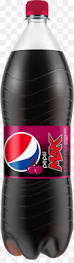bottle: (1, 1, 74, 255)
pepsi: (3, 126, 49, 176)
